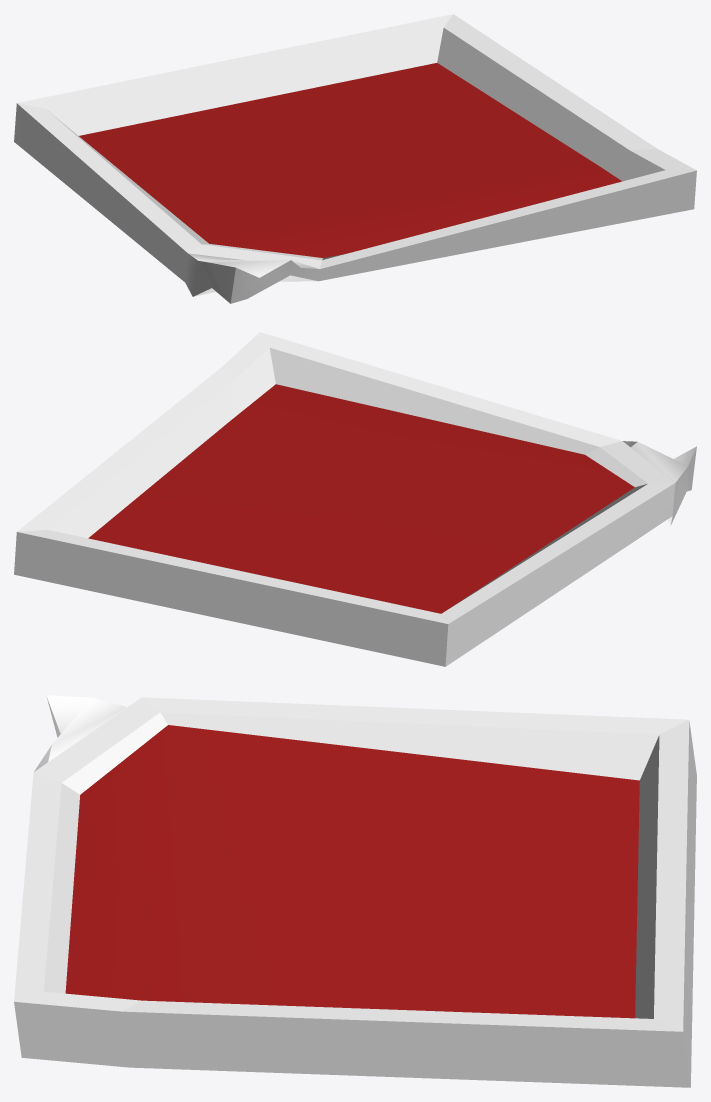
The model's file is Half_a_box.fbx.
3 renders of one model, top to bottom at view 1: azimuth 30°, elevation 25°; view 2: azimuth 150°, elevation 25°; view 3: azimuth 270°, elevation 25°, orthographic. The views are drawn at different scales.
Parts seen in each view (by area): view 1: Half_a_Box; view 2: Half_a_Box; view 3: Half_a_Box.
Part boxes in pixels (x1,y1,x2,y2): Half_a_Box: (14,14,696,303); Half_a_Box: (14,332,696,666); Half_a_Box: (14,695,696,1087).
Bounding box in the file's own units: 1.86 × 0.2556 × 1.73.
